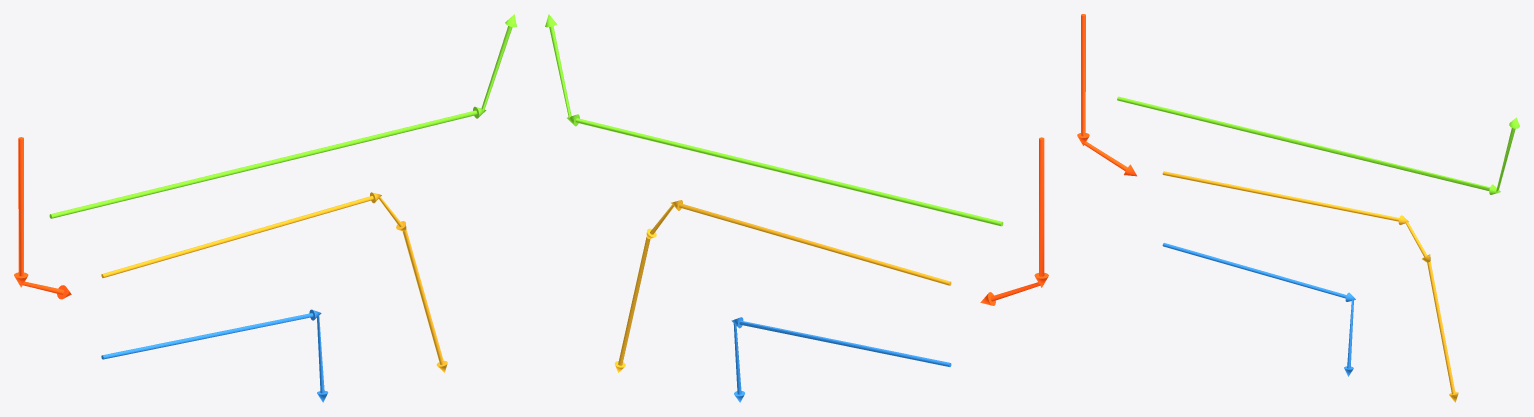
Rendered from three_phase_separator_flow.glb.
3 renders of one model, left to right at view 1: azimuth 30°, elevation 25°; view 2: azimuth 150°, elevation 25°; view 3: azimuth 330°, elevation 25°, orthographic. The views are drawn at different scales.
Visible parts, largest first — view 1: gas, oil, water, well_fluid; view 2: gas, oil, water, well_fluid; view 3: gas, oil, water, well_fluid.
Boxes of the visible parts, bbox=[...] form: gas: bbox=[49, 14, 516, 218]; oil: bbox=[101, 192, 447, 372]; water: bbox=[101, 309, 328, 402]; well_fluid: bbox=[14, 137, 71, 299]; gas: bbox=[545, 14, 1003, 226]; oil: bbox=[614, 200, 951, 372]; water: bbox=[731, 317, 951, 402]; well_fluid: bbox=[980, 137, 1048, 305]; gas: bbox=[1117, 96, 1519, 194]; oil: bbox=[1162, 171, 1458, 402]; water: bbox=[1162, 243, 1355, 376]; well_fluid: bbox=[1077, 14, 1136, 176].
Size of the model in its own units: 2.91 by 1.89 by 0.1176.
